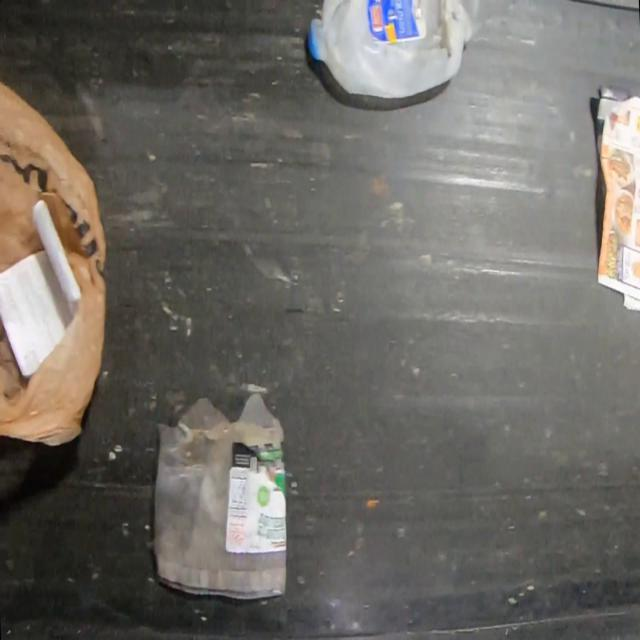rigid_plastic: (150, 392, 288, 599), (307, 1, 481, 102)
soft_plastic: (0, 79, 109, 449)
